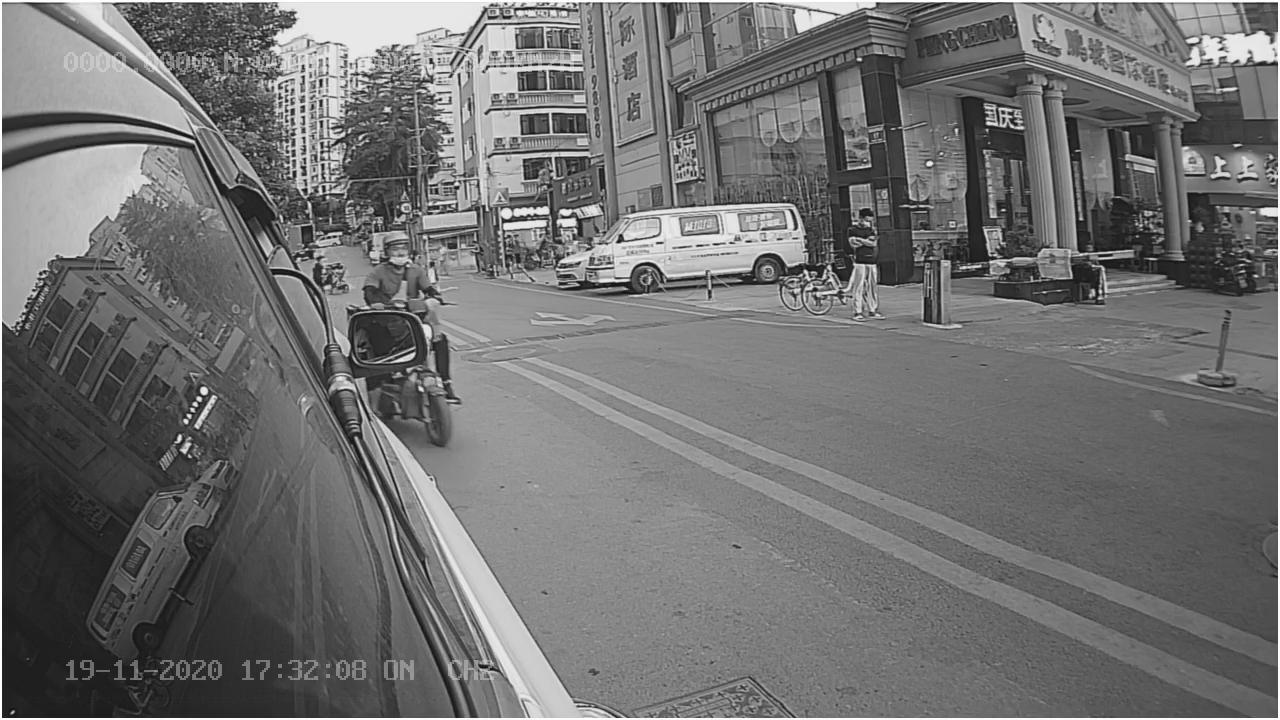person: (361, 229, 445, 299)
